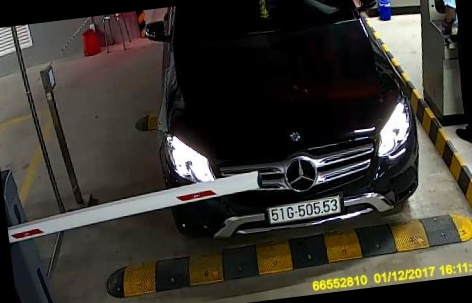plate: (262, 194, 343, 224)
